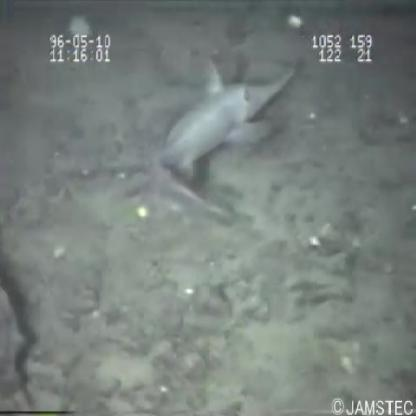Bio: (94, 55, 301, 230)
